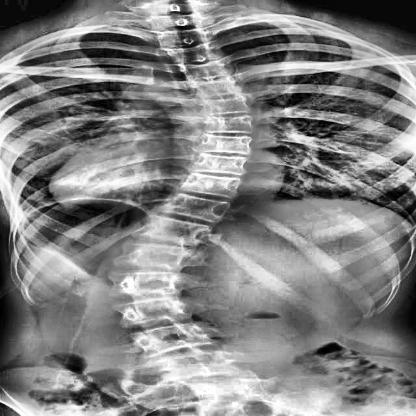Vertebrae: (114, 326, 236, 352), (111, 245, 195, 271), (152, 196, 242, 218), (122, 222, 222, 240), (150, 29, 228, 52), (170, 174, 250, 196), (102, 303, 210, 319), (108, 274, 192, 294), (155, 46, 237, 66), (142, 12, 218, 30), (195, 98, 269, 115), (186, 156, 252, 174), (192, 115, 266, 131), (186, 136, 256, 152), (188, 80, 258, 96), (172, 65, 246, 79)
